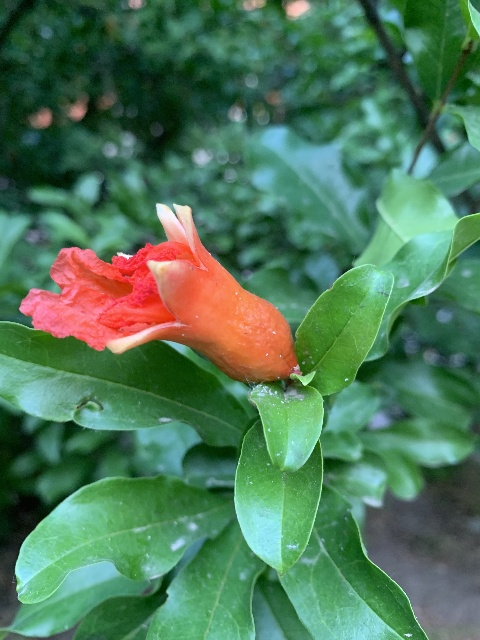flower: (17, 202, 294, 383)
